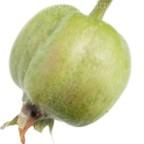fruit: (0, 4, 144, 142)
